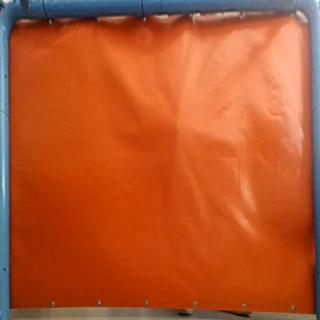Hit-hRxx: (172, 115, 186, 132)
